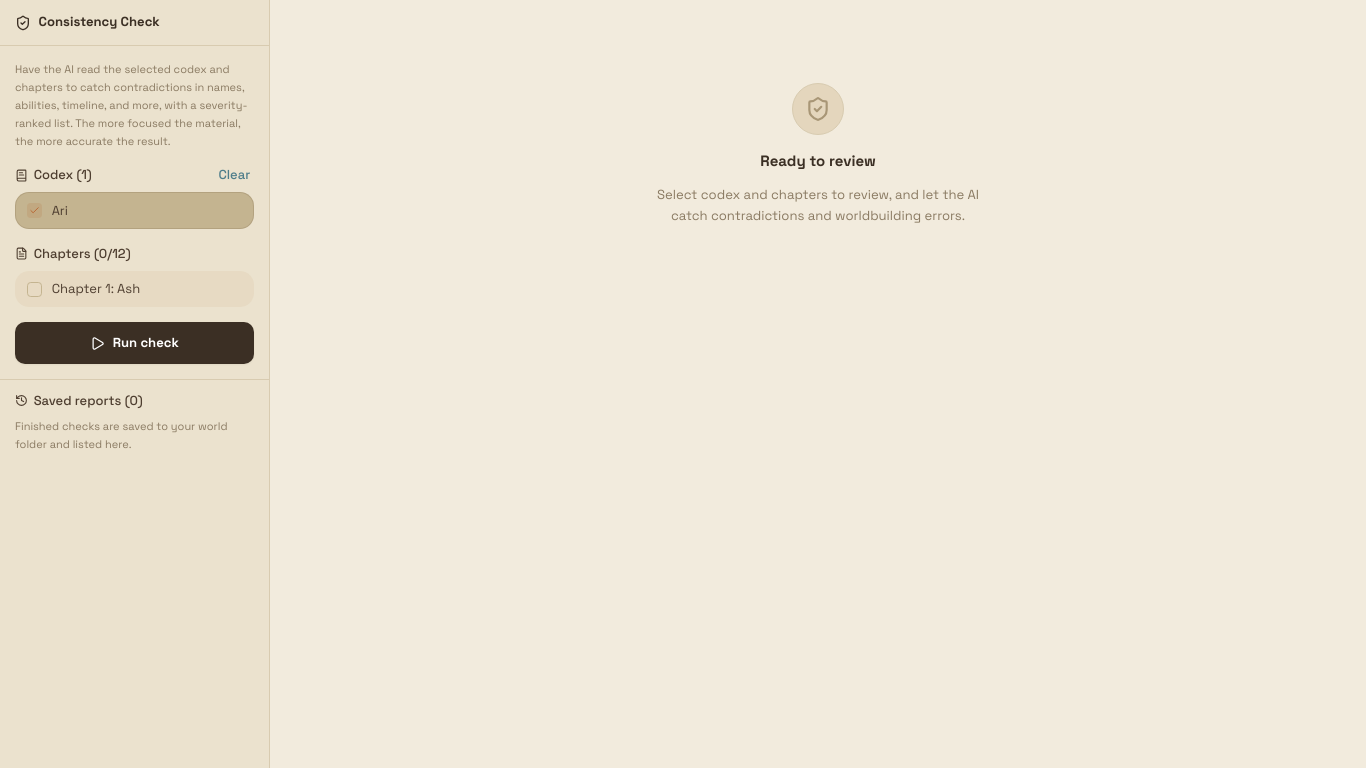
Test: the consistency check › preselects the codex, opts chapters in by hand, and enables the run
The image size is (1366, 768).
Expected: the heading "Consistency Check" is shown, x1=15 y1=13 x2=160 y2=30
Expected: the text "Codex (1)" is shown, x1=15 y1=165 x2=92 y2=185
Click the button "Chapter 1: Ash" at (134, 289), box x1=15 y1=271 x2=254 y2=307
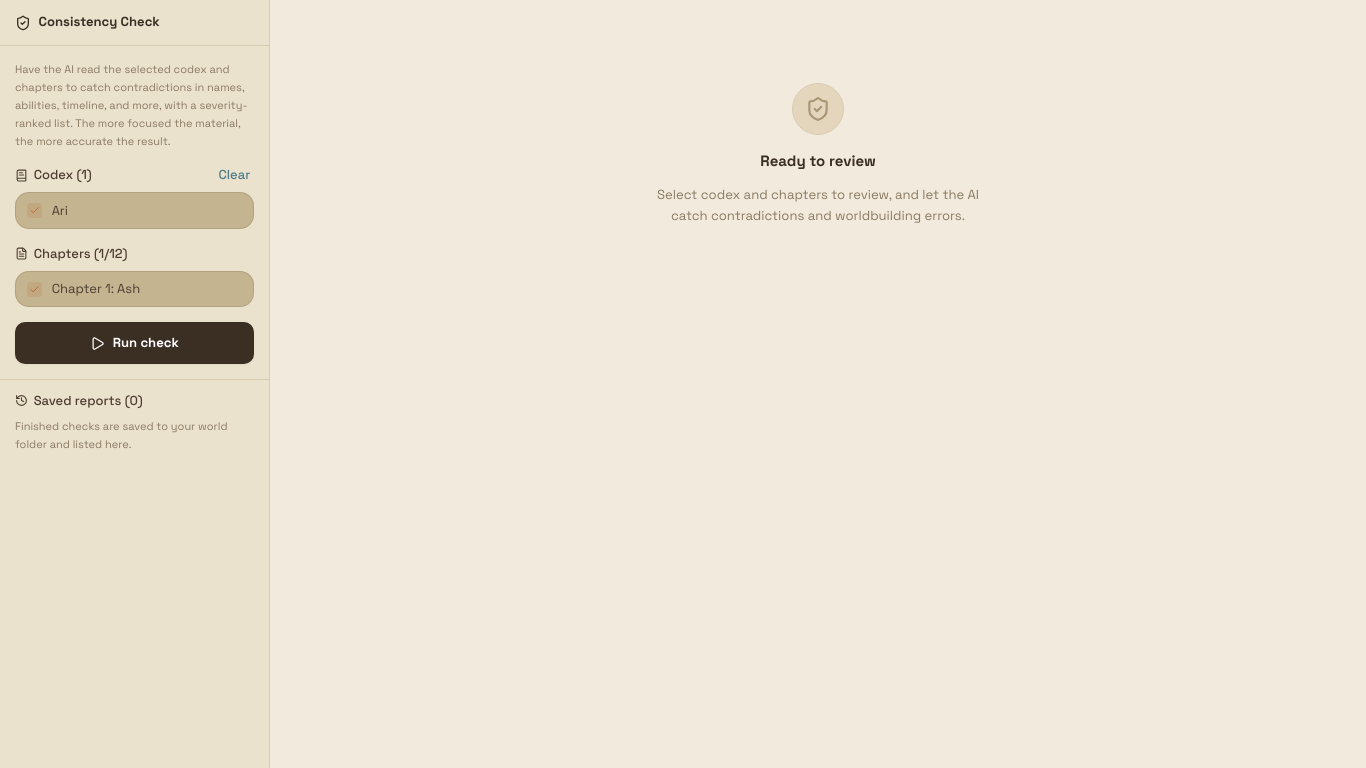
Expected: the text "Chapters (1/12)" is shown, x1=15 y1=245 x2=128 y2=262
// Clearing the codex leaves the chapter selected, so the run stays possible.
Click the button "Clear" at (234, 175), box x1=215 y1=165 x2=254 y2=185
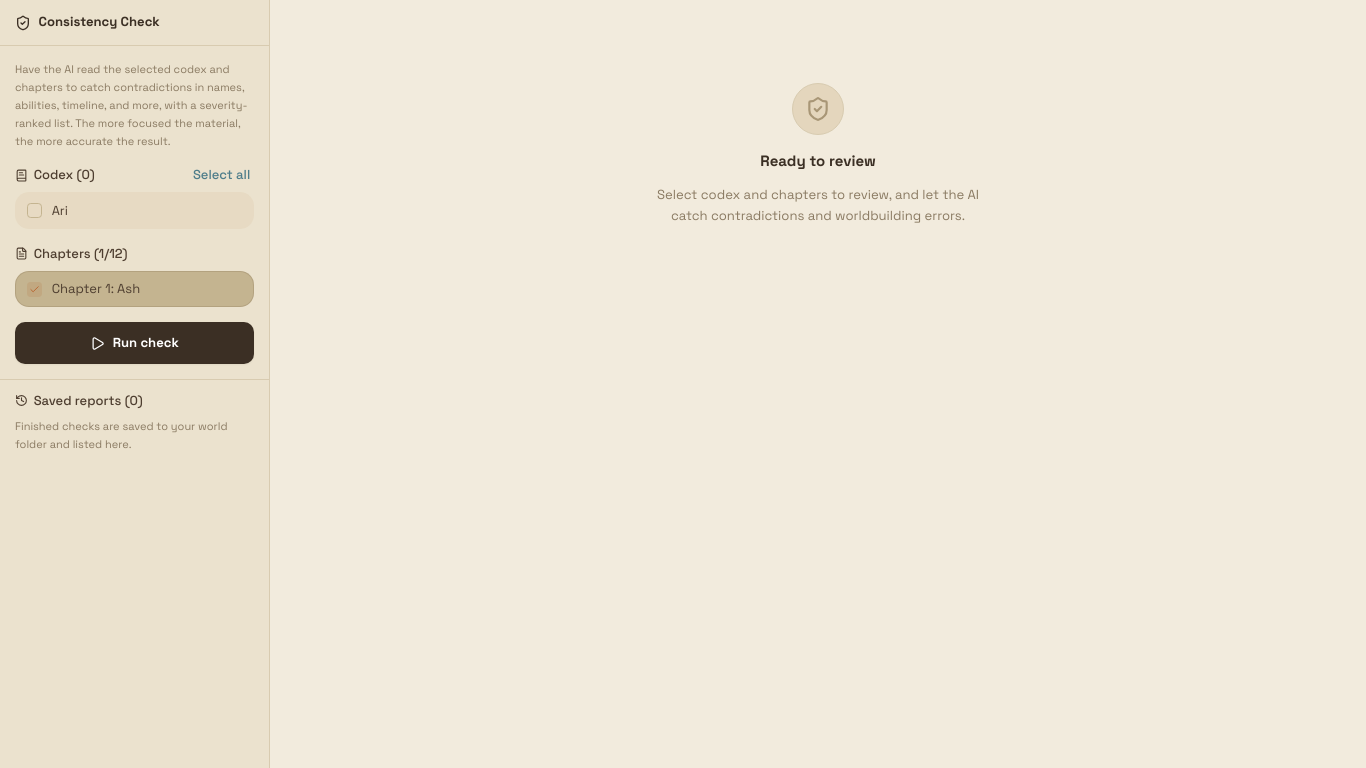
Expected: the button "Run check" is enabled, x1=15 y1=322 x2=254 y2=364
Expected: the text "Codex (0)" is shown, x1=15 y1=165 x2=95 y2=185
Expected: the button "Select all" is shown, x1=189 y1=165 x2=254 y2=185
